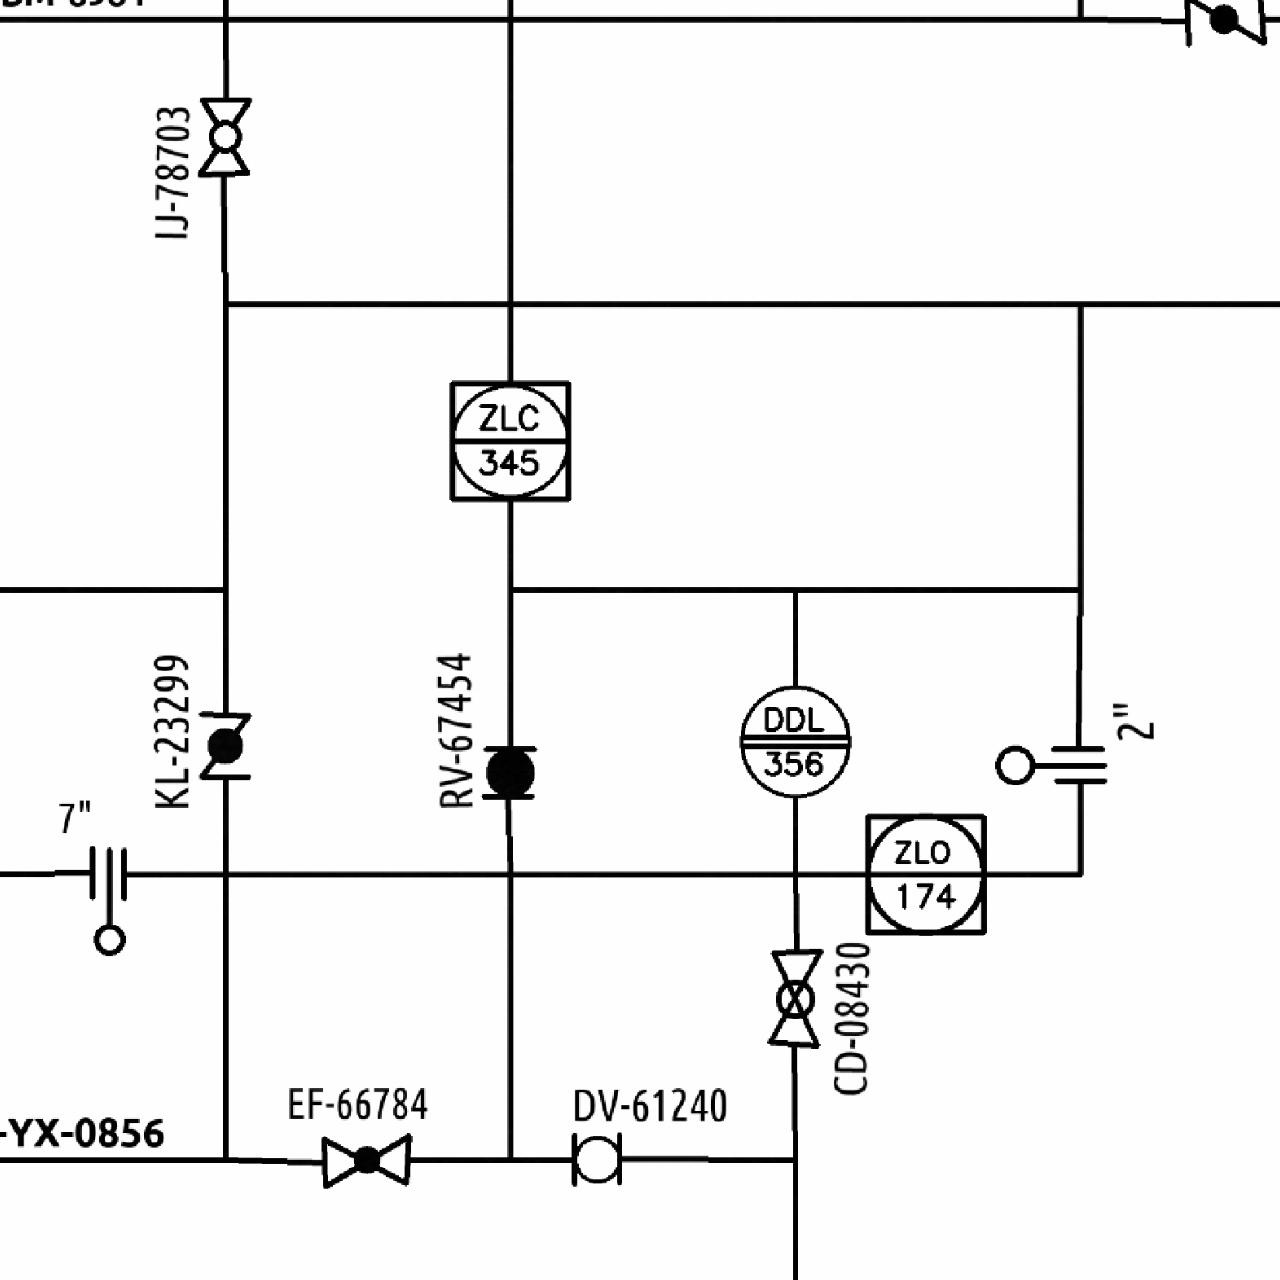Control-Panel: (733, 678, 855, 804)
